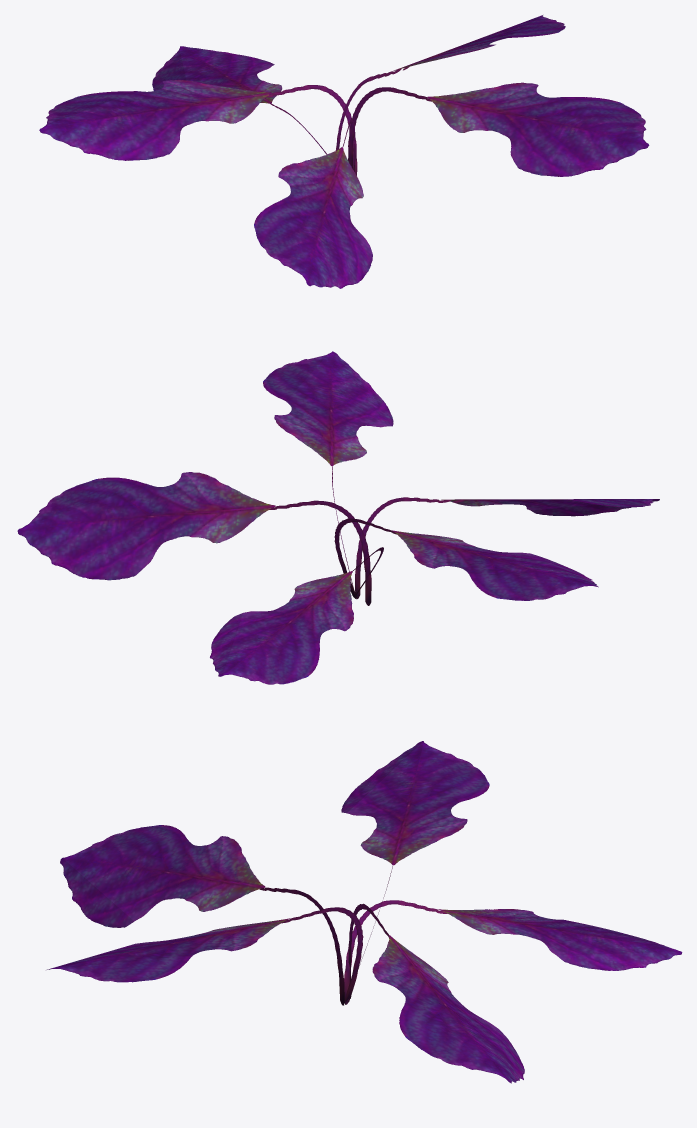
File: Row Root C2.fbx
3 views of the same model, one above another, from view 1: azimuth 30°, elevation 25°; view 2: azimuth 150°, elevation 25°; view 3: azimuth 270°, elevation 25° (orthographic). The views are drawn at different scales.
Parts seen in each view (by area): view 1: Row Root C2; view 2: Row Root C2; view 3: Row Root C2.
Boxes of the visible parts, x1,y1,x2,y2 form: Row Root C2: [39, 15, 649, 288]; Row Root C2: [17, 351, 659, 684]; Row Root C2: [47, 741, 682, 1083].
Size of the model in its own units: 240 by 51.9 by 220.
